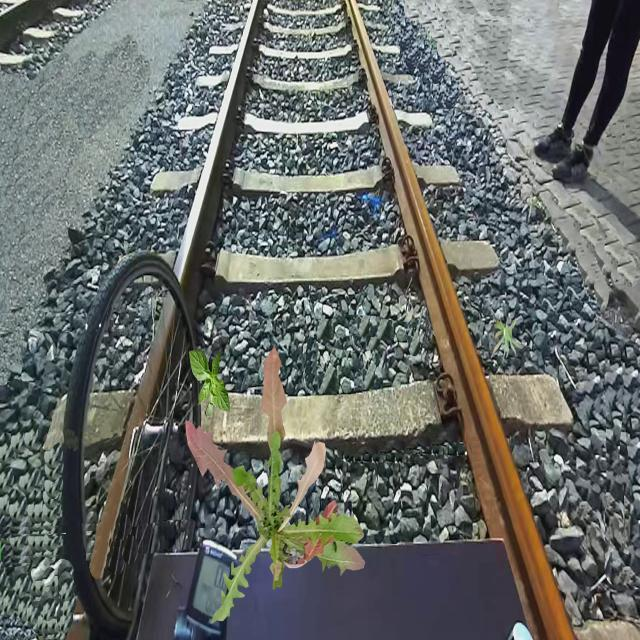Plant: (186, 346, 366, 624), (189, 348, 230, 419), (492, 317, 524, 363)
